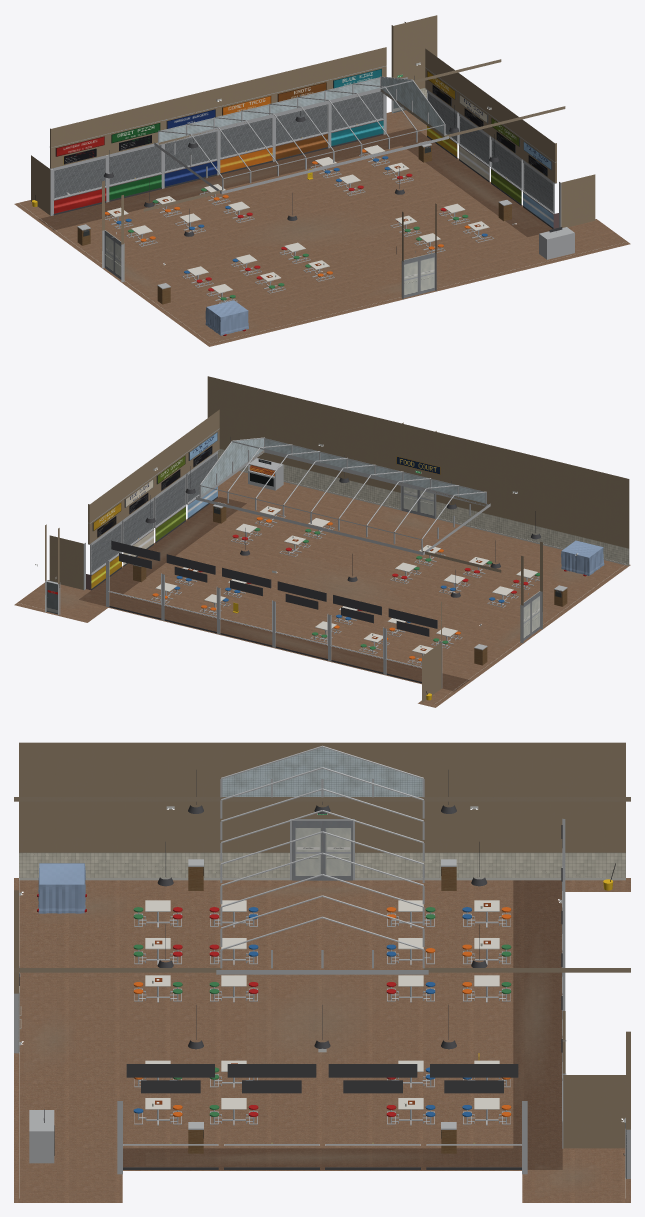
The model's file is food_court.glb.
The picture shows the model from 3 angles, top to bottom: view 1: azimuth 30°, elevation 25°; view 2: azimuth 150°, elevation 25°; view 3: azimuth 270°, elevation 25°; orthographic projection. The views are drawn at different scales.
Visible parts, largest first — view 1: Floor_Terrazzo, Wall_Paint, Metal_Steel, Shutter_Metal, Sign_Paint, Floor_Border, Skylight_Glass, Decal_Dust, Laminate, Metal_Dark, Paint_Palette, Ceiling_Paint (+5 smaller); view 2: Floor_Terrazzo, Wall_Paint, Metal_Steel, Floor_Border, Metal_Dark, Wall_Tile, Skylight_Glass, Sign_Paint, Decal_Dust, Shutter_Metal, Laminate, Paint_Palette (+3 smaller); view 3: Floor_Terrazzo, Wall_Paint, Floor_Border, Metal_Steel, Wall_Tile, Metal_Dark, Decal_Dust, Skylight_Glass, Laminate, Ceiling_Paint, Paint_Palette, Cloth_Sheet (+4 smaller).
Boxes of the visible parts, <box> form: Floor_Terrazzo: <box>14,110,630,346</box>; Wall_Paint: <box>31,15,595,261</box>; Metal_Steel: <box>49,65,574,303</box>; Shutter_Metal: <box>54,91,553,211</box>; Sign_Paint: <box>54,68,553,231</box>; Floor_Border: <box>38,127,552,237</box>; Skylight_Glass: <box>159,77,443,142</box>; Decal_Dust: <box>125,117,500,292</box>; Laminate: <box>107,145,489,293</box>; Metal_Dark: <box>53,76,562,253</box>; Paint_Palette: <box>32,147,556,335</box>; Ceiling_Paint: <box>143,59,565,211</box>; Floor_Terrazzo: <box>14,471,630,707</box>; Wall_Paint: <box>45,376,629,702</box>; Metal_Steel: <box>45,428,567,688</box>; Floor_Border: <box>79,496,469,691</box>; Metal_Dark: <box>91,437,540,683</box>; Wall_Tile: <box>45,449,629,628</box>; Skylight_Glass: <box>201,438,485,503</box>; Sign_Paint: <box>91,432,561,592</box>; Decal_Dust: <box>60,515,582,655</box>; Shutter_Metal: <box>91,454,216,572</box>; Laminate: <box>155,506,537,654</box>; Paint_Palette: <box>152,463,586,700</box>; Floor_Terrazzo: <box>14,878,630,1202</box>; Wall_Paint: <box>14,742,630,1148</box>; Floor_Border: <box>123,880,562,1169</box>; Metal_Steel: <box>14,745,630,1179</box>; Wall_Tile: <box>19,852,625,877</box>; Metal_Dark: <box>19,770,562,1169</box>; Decal_Dust: <box>35,886,595,1187</box>; Skylight_Glass: <box>222,747,422,796</box>; Laminate: <box>145,900,499,1109</box>; Ceiling_Paint: <box>14,797,630,972</box>; Paint_Palette: <box>37,863,615,1155</box>; Cloth_Sheet: <box>38,863,85,913</box>.
Bounding box in the file's own units: 30.4 × 8.44 × 24.4.
24 materials, 14 textured.
